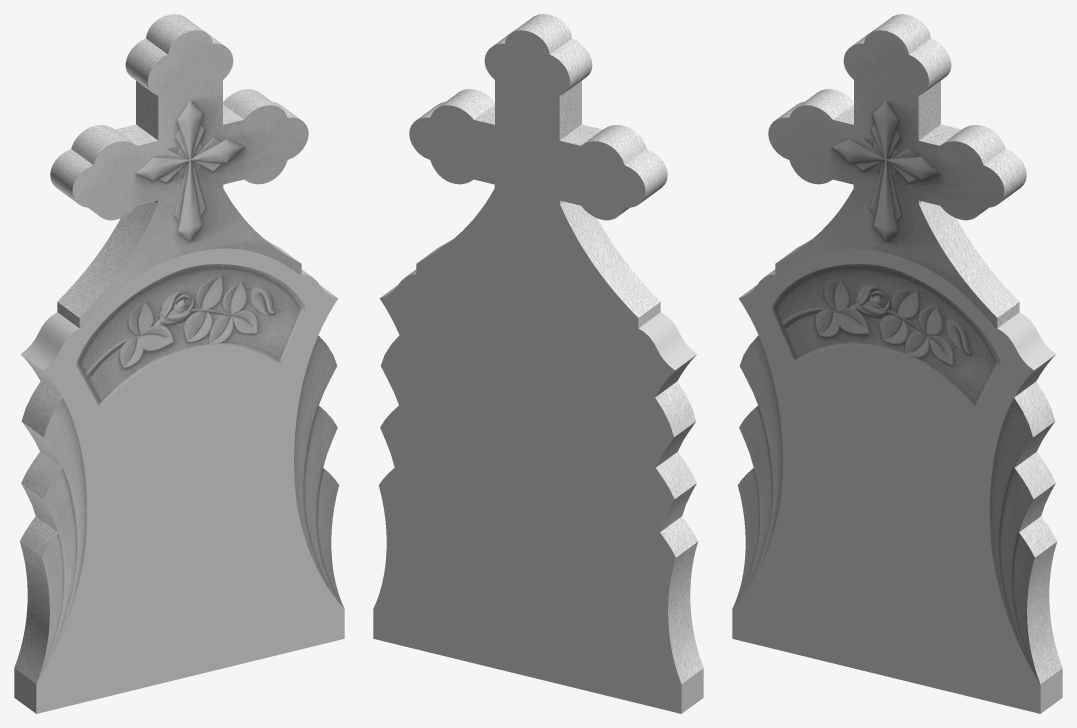
Rendered from cn08d30ea02f_tkf.glb.
3 views of the same model, side by side, from view 1: azimuth 30°, elevation 25°; view 2: azimuth 150°, elevation 25°; view 3: azimuth 330°, elevation 25° (orthographic).
Parts seen in each view (by area): view 1: Pam-d02-011, Pam-d02-011_2_notexture; view 2: Pam-d02-011, Pam-d02-011_2_notexture; view 3: Pam-d02-011, Pam-d02-011_2_notexture.
Part boxes in pixels (x1,y1,x2,y2): Pam-d02-011: (14, 248, 344, 713); Pam-d02-011_2_notexture: (14, 14, 344, 683); Pam-d02-011: (373, 30, 703, 713); Pam-d02-011_2_notexture: (416, 14, 703, 683); Pam-d02-011: (732, 248, 1062, 713); Pam-d02-011_2_notexture: (732, 14, 1062, 683).
Size of the model in its own units: 0.4 by 0.8 by 0.05.
Materials: 1 (1 with a texture image).
